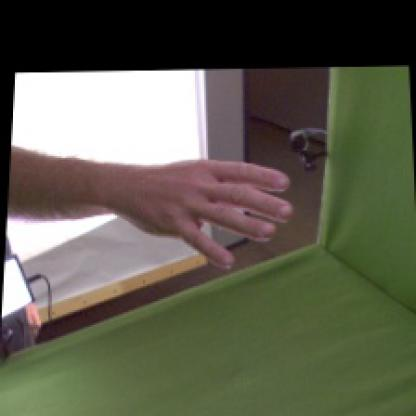Hand: (119, 158, 296, 271)
